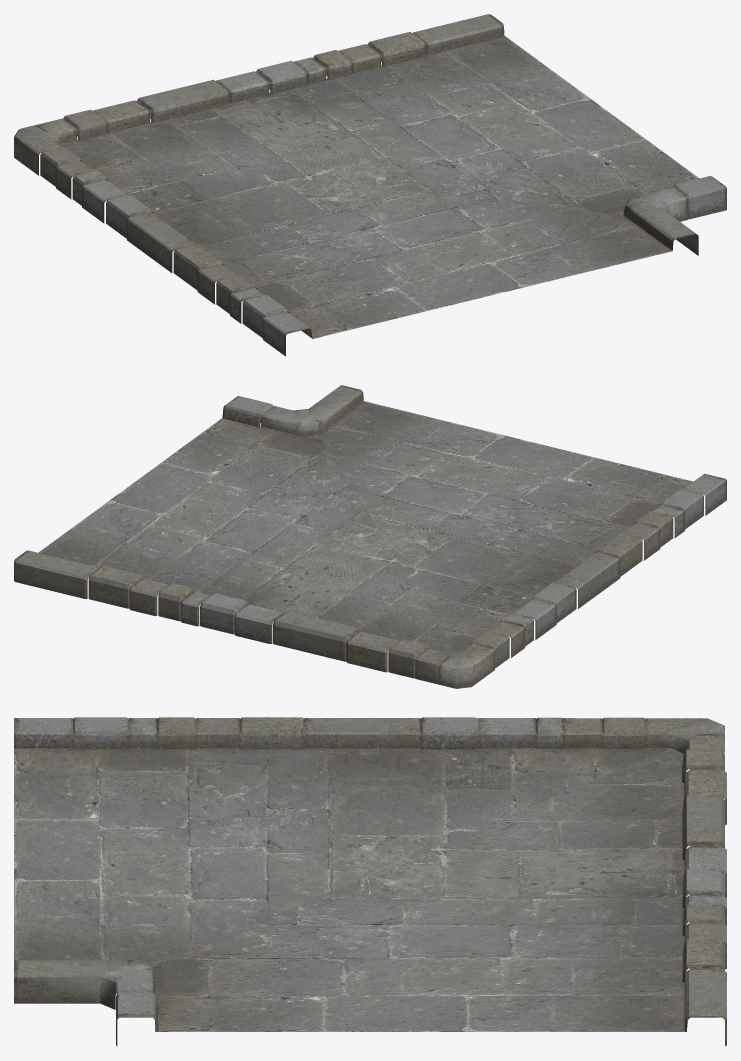
File: bg_lut_lucastle_street01_sm_jjy.FBX
3 views of the same model, one above another, from view 1: azimuth 30°, elevation 25°; view 2: azimuth 150°, elevation 25°; view 3: azimuth 270°, elevation 25° (orthographic). The views are drawn at different scales.
Visible parts, largest first — view 1: bg_lut_lucastle_street01_sm_jjy; view 2: bg_lut_lucastle_street01_sm_jjy; view 3: bg_lut_lucastle_street01_sm_jjy.
Part boxes in pixels (x1,y1,x2,y2): bg_lut_lucastle_street01_sm_jjy: (14,14,726,356); bg_lut_lucastle_street01_sm_jjy: (14,385,726,688); bg_lut_lucastle_street01_sm_jjy: (14,717,726,1046).
Size of the model in its own units: 448 by 21.98 by 449.
